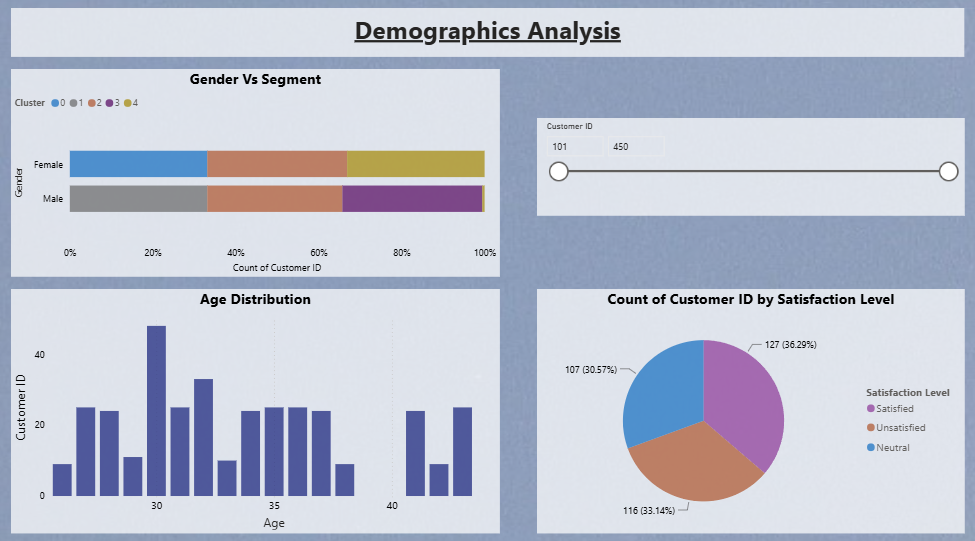

What the dashboard file says about the page in this screenshot:
{"tool":"powerbi","page":{"name":"Page 3","canvas":[1280,720],"ordinal":2},"visuals":[{"type":"textbox","box":[16,16,1248,64],"z":0},{"type":"columnChart","title":"Age Distribution","fields":{"Y":["CountNonNull(clustered_customers.Customer ID)"],"Category":["clustered_customers.Age"]},"box":[16,384,640,320],"z":1},{"type":"hundredPercentStackedBarChart","title":"Gender Vs Segment","fields":{"Category":["clustered_customers.Gender"],"Series":["clustered_customers.Cluster"],"Y":["CountNonNull(clustered_customers.Customer ID)"]},"box":[16,96,640,272],"z":2},{"type":"pieChart","fields":{"Category":["clustered_customers.Satisfaction Level"],"Y":["CountNonNull(clustered_customers.Customer ID)"]},"box":[704,384,560,320],"z":3},{"type":"slicer","fields":{"Values":["clustered_customers.Customer ID"]},"box":[704,160,560,128],"z":4}]}

Visuals, with their boxes in screenshot pixels (x1, y1, x2, y2), scaled from the page's 1280x720 canvas onto the 975x541 screenshot:
textbox: box(12, 12, 963, 60)
"Age Distribution" columnChart: box(12, 289, 500, 529)
"Gender Vs Segment" hundredPercentStackedBarChart: box(12, 72, 500, 277)
pieChart - clustered_customers.Satisfaction Level x CountNonNull(clustered_customers.Customer ID): box(536, 289, 963, 529)
slicer - clustered_customers.Customer ID: box(536, 120, 963, 216)
